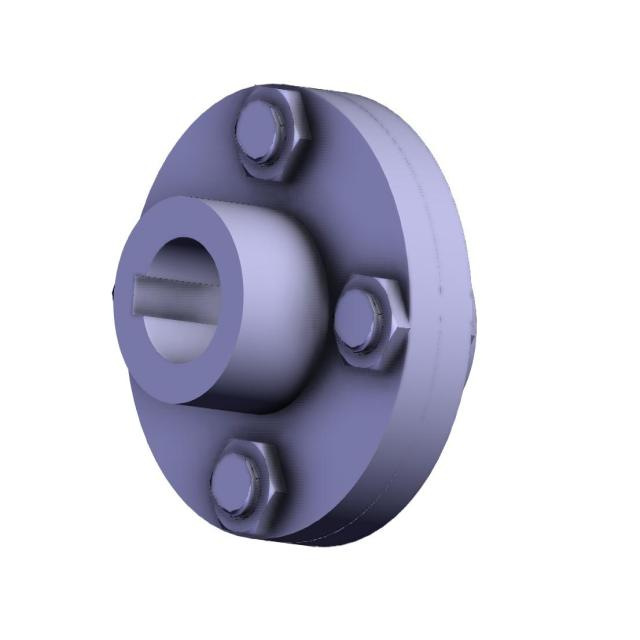bolt nut: (331, 270, 411, 376), (207, 437, 287, 537), (234, 86, 312, 186)
